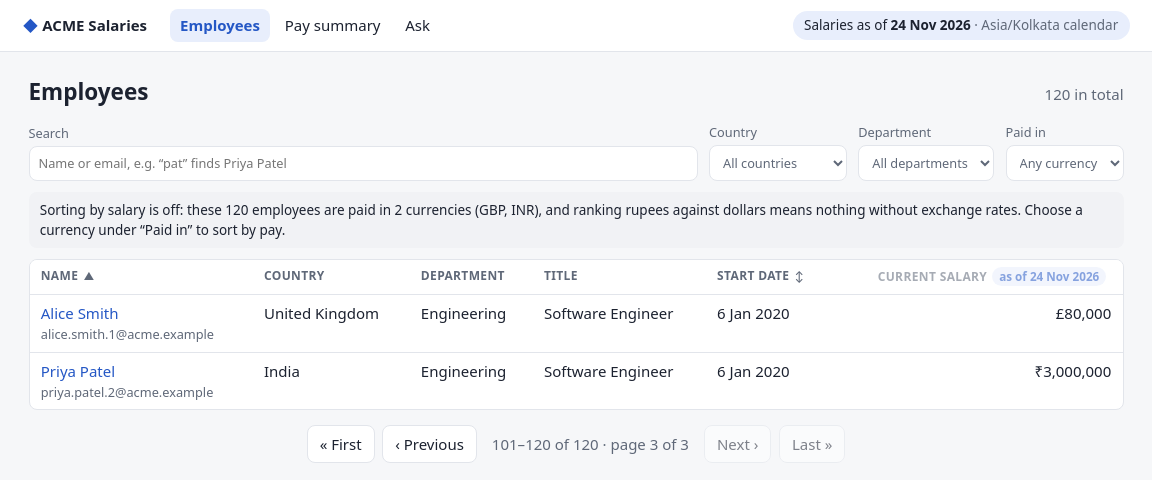
Test: search › waits for typing to pause, sends one request, and goes back to page 1
Expected: the link "Alice Smith" is shown, [41,303,118,323]
Type "pat" into the search field labelled "Search" at point(363, 164), box [28,146,698,181]
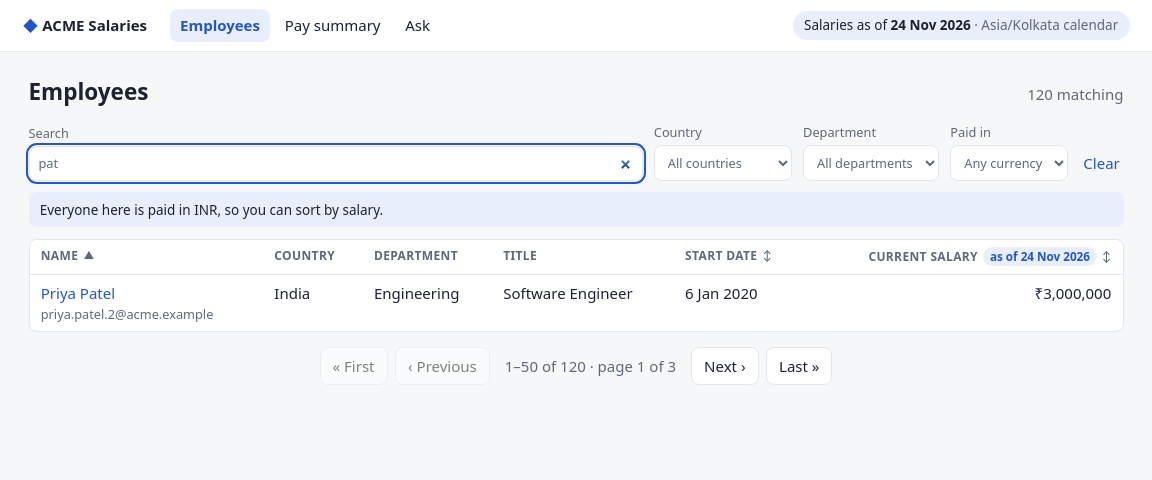
Expected: the link "Priya Patel" is shown, [41,283,115,303]
Expected: the link "Alice Smith" is gone
